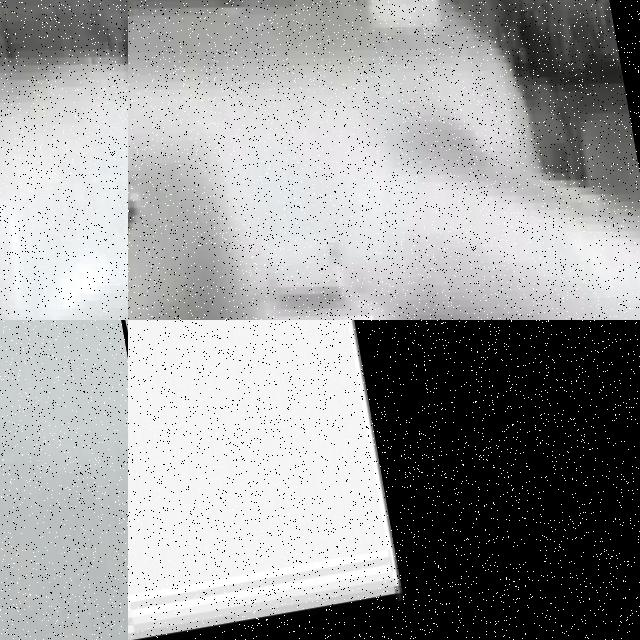drone: (128, 0, 640, 320), (0, 0, 128, 320)
